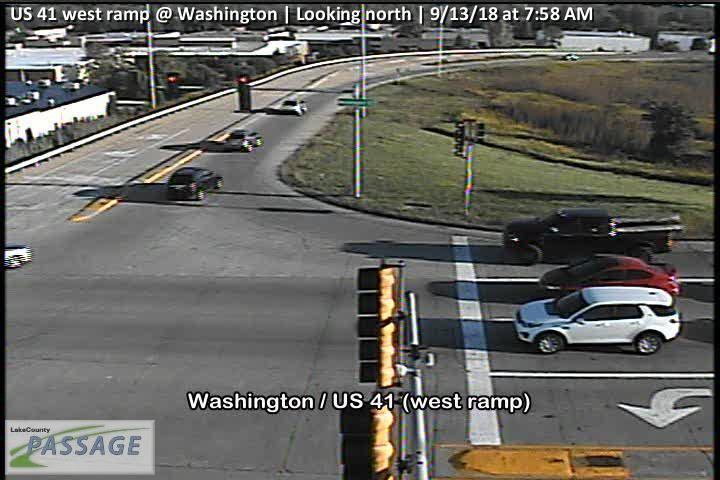SUV: (513, 284, 683, 357), (166, 166, 224, 200)
Sedan: (539, 252, 682, 300), (223, 127, 266, 155), (278, 98, 308, 116), (559, 52, 580, 61)
Truck: (502, 205, 685, 265)
